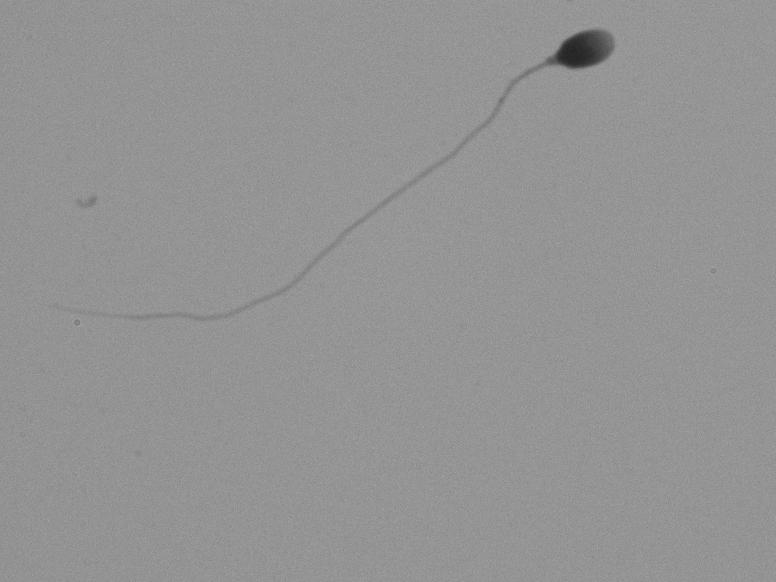Normal: (69, 7, 653, 407)
